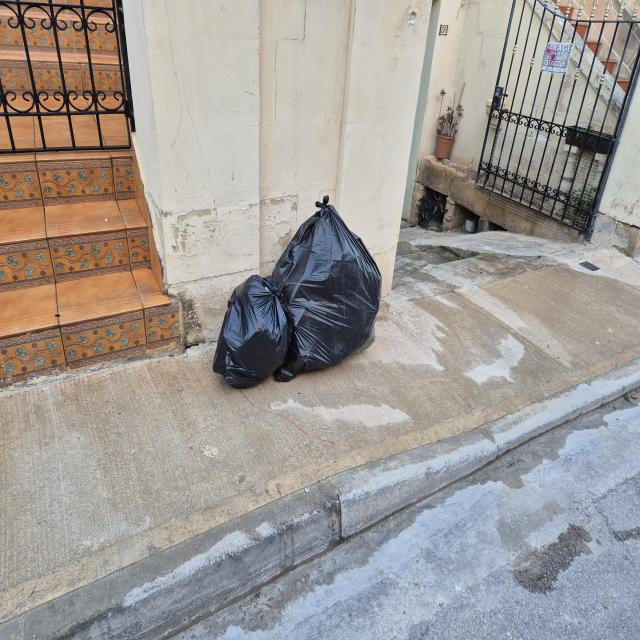black_bag: (269, 191, 397, 375), (201, 281, 292, 382)
